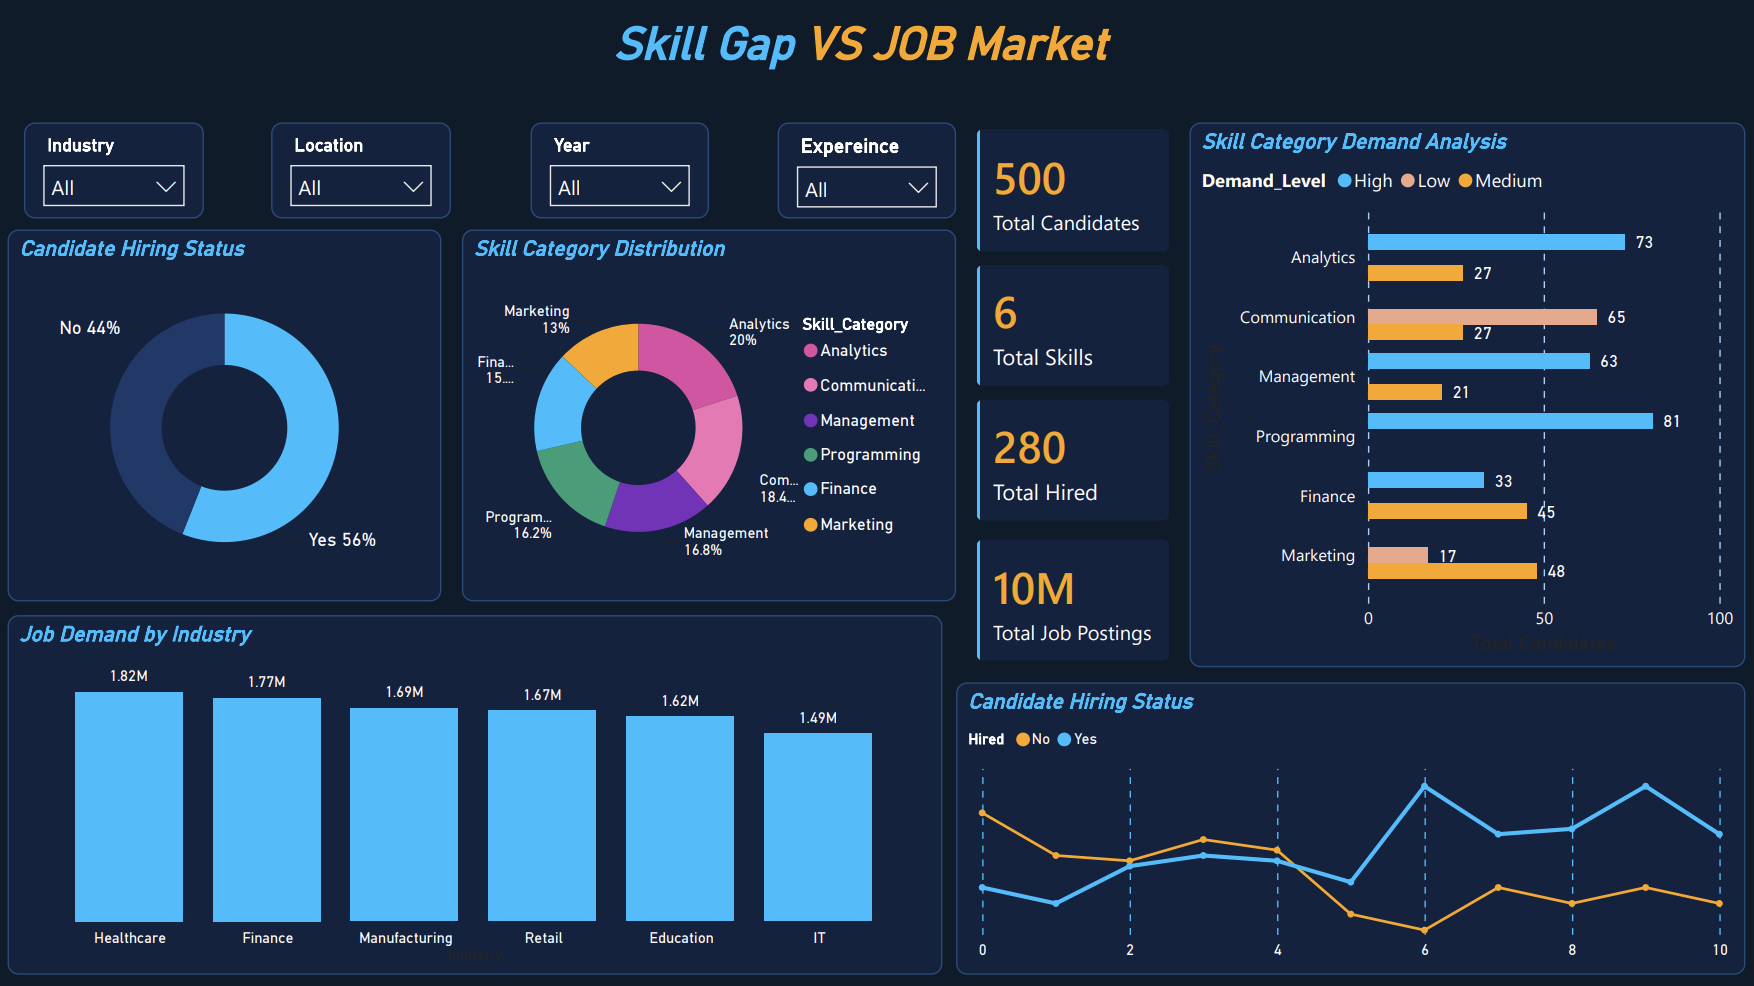

This screenshot's page, from the dashboard's own definition file:
{"tool":"powerbi","page":{"name":"Page 1","canvas":[1280,720],"ordinal":0},"visuals":[{"type":"textbox","box":[444.5,7.8,390,54.5],"z":0},{"type":"donutChart","title":"Candidate Hiring Status","fields":{"Category":["Sheet1.Hired"],"Y":["_Measures.Total Candidates"]},"box":[6.8,168.3,316.1,270.4],"z":1000},{"type":"donutChart","title":"Skill Category Distribution","fields":{"Category":["Sheet1.Skill_Category"],"Y":["_Measures.Total Candidates"]},"box":[337.5,168.3,360.9,270.4],"z":2000},{"type":"cardVisual","fields":{"Data":["_Measures.Total Skills"]},"box":[708.1,188.7,159.5,98.2],"z":3000},{"type":"cardVisual","fields":{"Data":["_Measures.Total Candidates"]},"box":[708.1,90.5,159.5,98.2],"z":4000},{"type":"cardVisual","fields":{"Data":["_Measures.Total Job Postings"]},"box":[708.1,389.1,159.5,98.2],"z":4001},{"type":"cardVisual","fields":{"Data":["_Measures.Total Hired"]},"box":[708.1,286.9,159.5,98.2],"z":4002},{"type":"clusteredBarChart","title":"Skill Category Demand Analysis","fields":{"Category":["Sheet1.Skill_Category"],"Y":["_Measures.Total Candidates"],"Series":["Sheet1.Demand_Level"]},"box":[867.6,90.5,405.6,396.8],"z":4003},{"type":"clusteredColumnChart","title":"Job Demand by Industry","fields":{"Category":["Sheet1.Industry"],"Y":["_Measures.Total Job Postings"]},"box":[6.8,449.4,680.9,261.6],"z":4004},{"type":"lineChart","title":"Candidate Hiring Status","fields":{"Category":["Sheet1.Years_Experience"],"Y":["_Measures.Total Candidates"],"Series":["Sheet1.Hired"]},"box":[698.4,498,574.8,213],"z":4005},{"type":"slicer","fields":{"Values":["Sheet1.Industry"]},"box":[19.5,90.5,130.3,69.1],"z":4006},{"type":"slicer","fields":{"Values":["Sheet1.Location"]},"box":[199.4,90.5,130.3,69.1],"z":4007},{"type":"slicer","fields":{"Values":["Sheet1.Year"]},"box":[388.1,90.5,130.3,69.1],"z":4008},{"type":"slicer","fields":{"Values":["Sheet1.Years_Experience"]},"box":[568,90.5,130.3,69.1],"z":4009}]}

Visuals, with their boxes in screenshot pixels (x1, y1, x2, y2), scaled from the page's 1280x720 canvas onto the 1754x986 screenshot:
textbox: bbox=(609, 11, 1144, 85)
"Candidate Hiring Status" donutChart: bbox=(9, 230, 442, 601)
"Skill Category Distribution" donutChart: bbox=(462, 230, 957, 601)
cardVisual - _Measures.Total Skills: bbox=(970, 258, 1189, 393)
cardVisual - _Measures.Total Candidates: bbox=(970, 124, 1189, 258)
cardVisual - _Measures.Total Job Postings: bbox=(970, 533, 1189, 667)
cardVisual - _Measures.Total Hired: bbox=(970, 393, 1189, 527)
"Skill Category Demand Analysis" clusteredBarChart: bbox=(1189, 124, 1745, 667)
"Job Demand by Industry" clusteredColumnChart: bbox=(9, 615, 942, 974)
"Candidate Hiring Status" lineChart: bbox=(957, 682, 1745, 974)
slicer - Sheet1.Industry: bbox=(27, 124, 205, 219)
slicer - Sheet1.Location: bbox=(273, 124, 452, 219)
slicer - Sheet1.Year: bbox=(532, 124, 710, 219)
slicer - Sheet1.Years_Experience: bbox=(778, 124, 957, 219)
